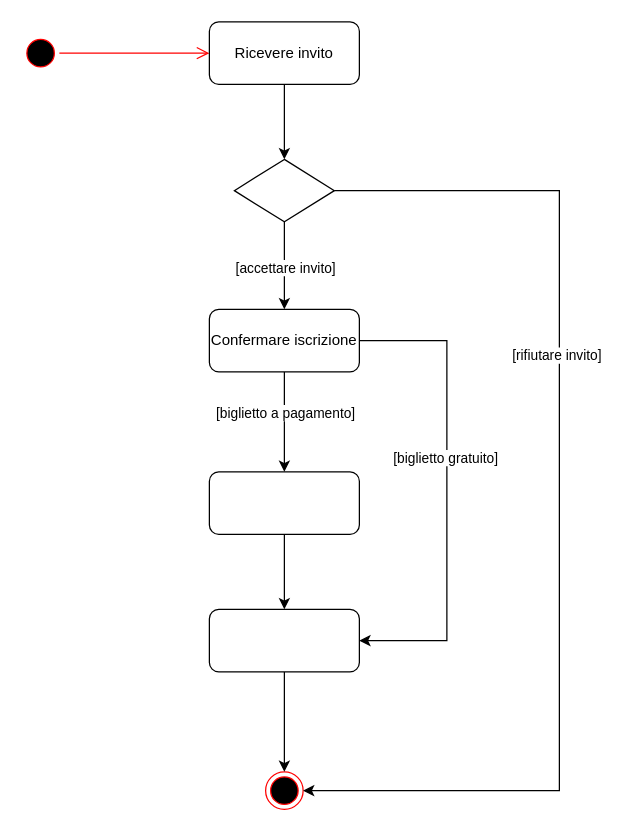
Some shapes in this 623 by 831 pixel diagram are drawn without their labels. The box of each missing label's shape, as (x1, y1, x2, y2) in pixels:
Pagare: (208, 471, 359, 534)
Ricevere notifica iscrizione: (208, 608, 359, 672)
